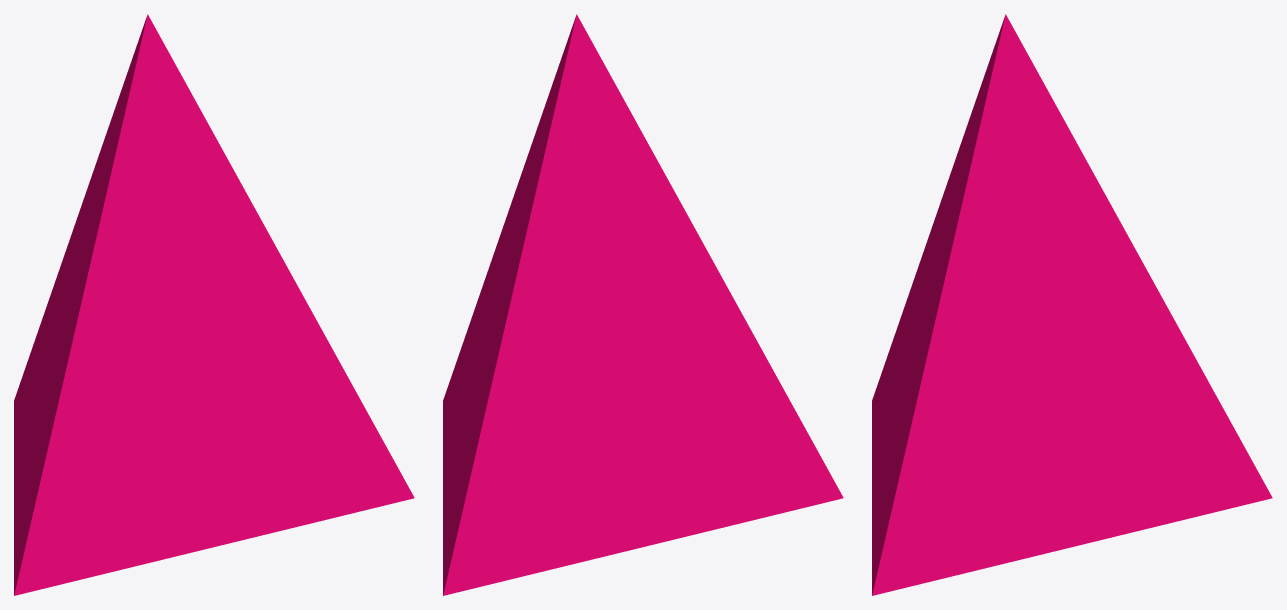
Rendered from right_triangular_pyramid.fbx.
3 views of the same model, side by side, from view 1: azimuth 30°, elevation 25°; view 2: azimuth 150°, elevation 25°; view 3: azimuth 270°, elevation 25° (orthographic).
Visible parts, largest first — view 1: right_triangular_pyramid; view 2: right_triangular_pyramid; view 3: right_triangular_pyramid.
Boxes of the visible parts, left/top/right/bottom form: right_triangular_pyramid: left=14, top=14, right=414, bottom=595; right_triangular_pyramid: left=443, top=14, right=843, bottom=595; right_triangular_pyramid: left=872, top=14, right=1272, bottom=595.
Bounding box in the file's own units: 114 × 132 × 98.64.
